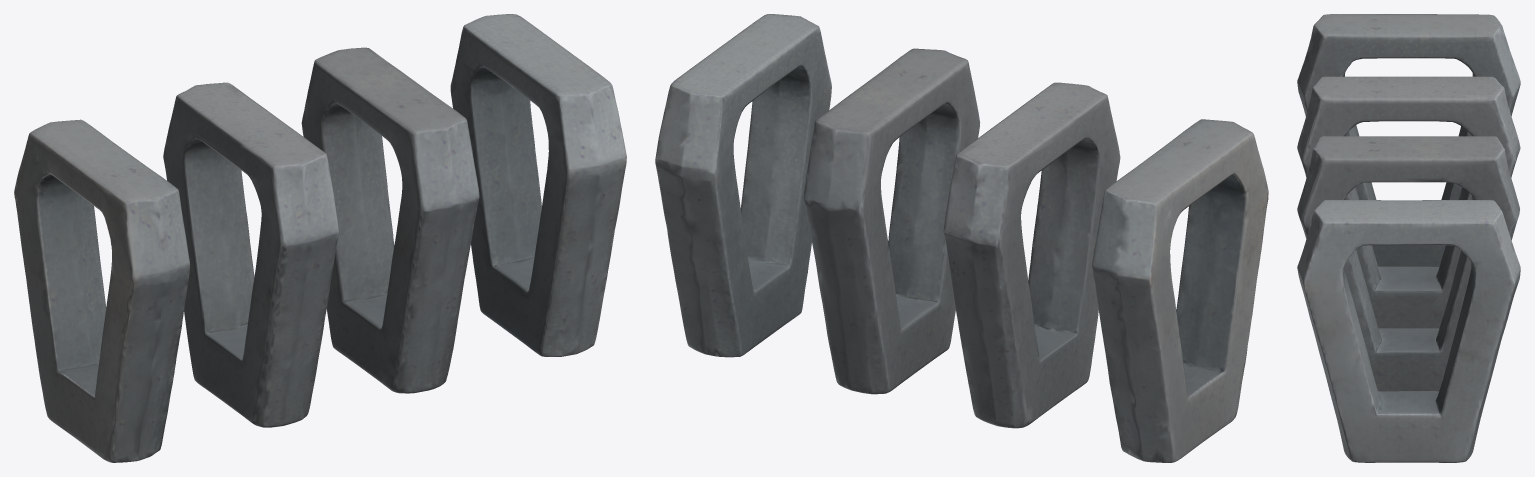
Rendered from rack.glb.
3 renders of one model, left to right at view 1: azimuth 30°, elevation 25°; view 2: azimuth 150°, elevation 25°; view 3: azimuth 270°, elevation 25°, orthographic. The views are drawn at different scales.
Visible parts, largest first — view 1: mesh; view 2: mesh; view 3: mesh.
Part boxes in pixels (x1,y1,x2,y2): mesh: [14, 14, 626, 462]; mesh: [655, 14, 1268, 462]; mesh: [1297, 14, 1520, 462].
Bounding box in the file's own units: 0.7322 × 0.3912 × 0.326.
1 material, 1 textured.
